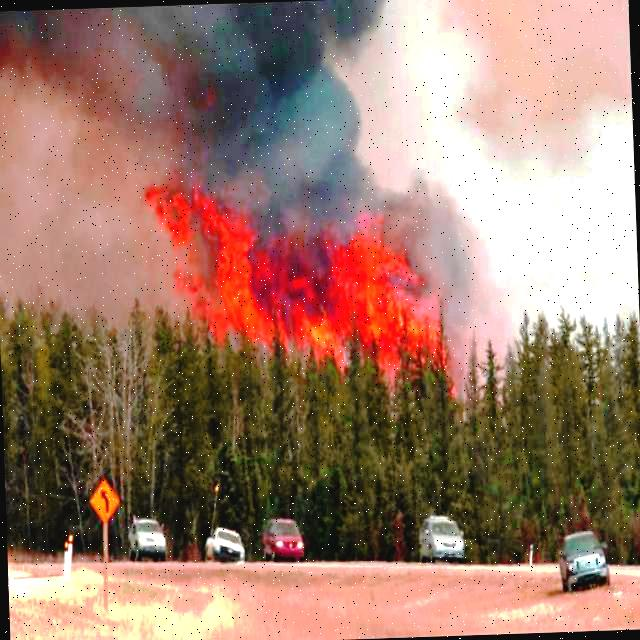api: (152, 184, 250, 340), (256, 240, 391, 347), (376, 254, 421, 363), (420, 314, 445, 355)
asap: (9, 1, 397, 179), (427, 2, 636, 319), (365, 178, 433, 244)
